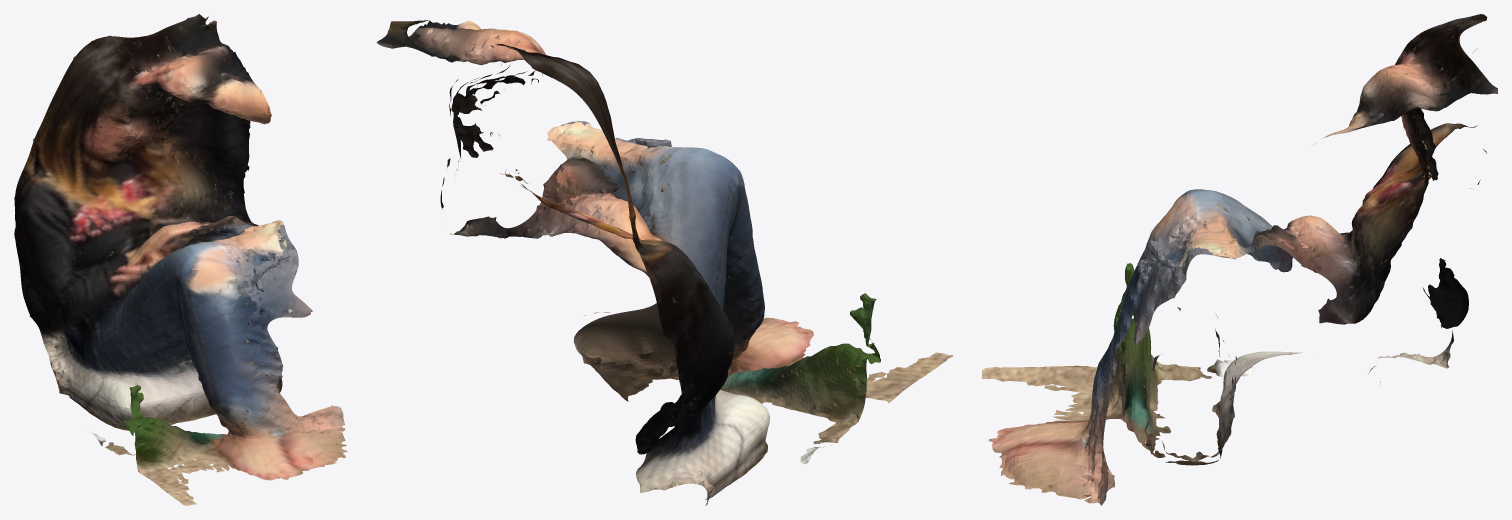
3 views of the same model, side by side, from view 1: azimuth 30°, elevation 25°; view 2: azimuth 150°, elevation 25°; view 3: azimuth 270°, elevation 25° (orthographic). The views are drawn at different scales.
Bounding box in the file's own units: 0.5128 × 0.7421 × 0.8227.
Materials: 1 (1 with a texture image).
